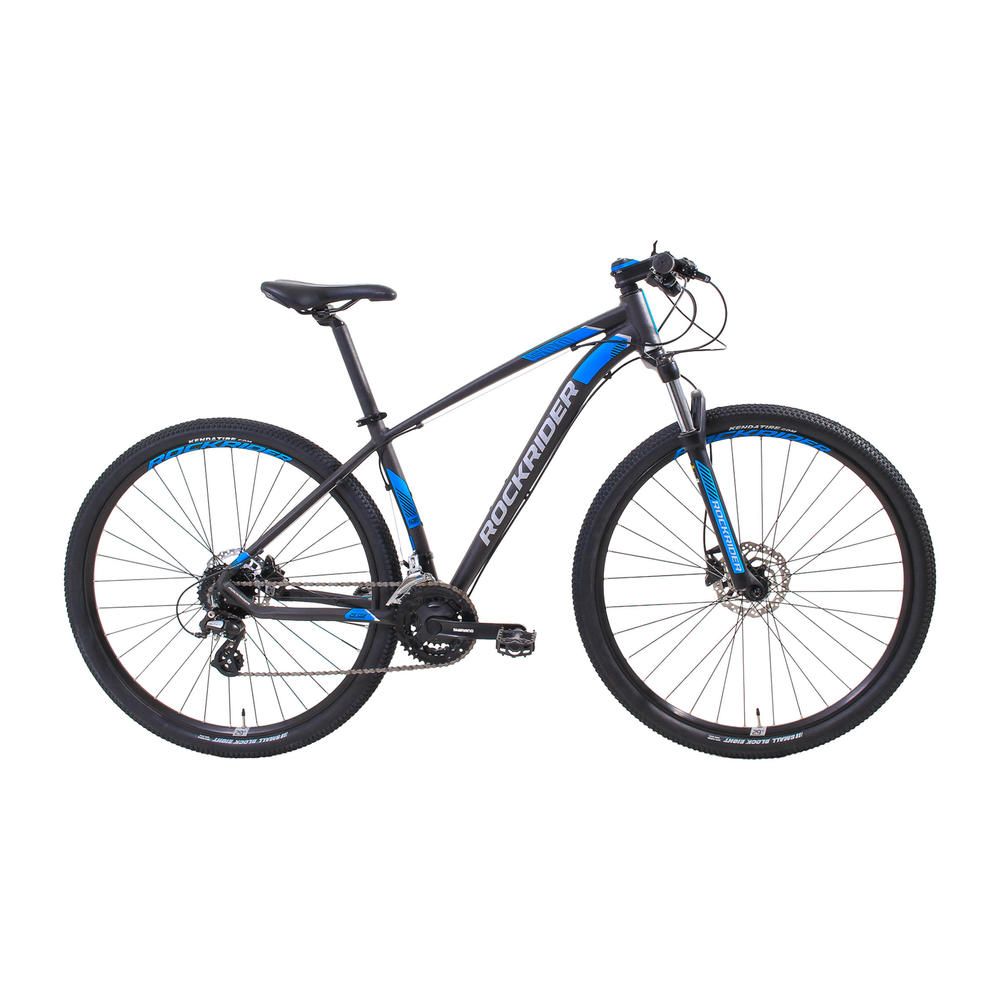RoadBike: (523, 502, 692, 752)
